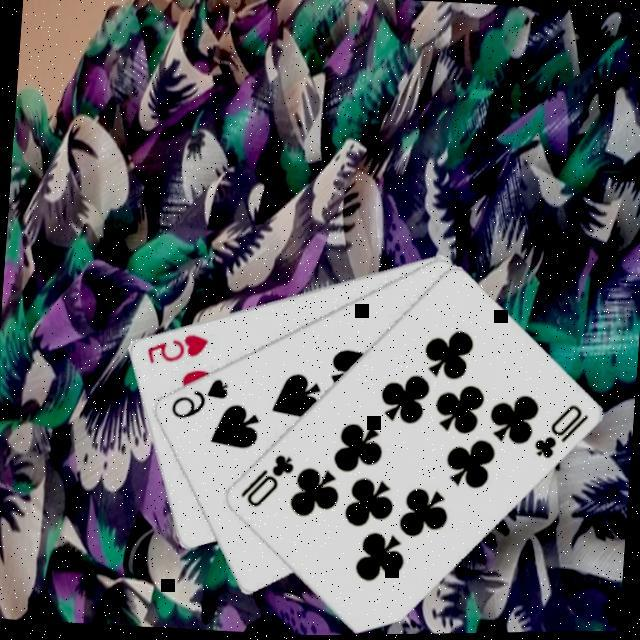10C: (527, 398, 590, 465), (233, 447, 295, 513)
5H: (139, 325, 209, 370)
9S: (164, 371, 229, 424)
